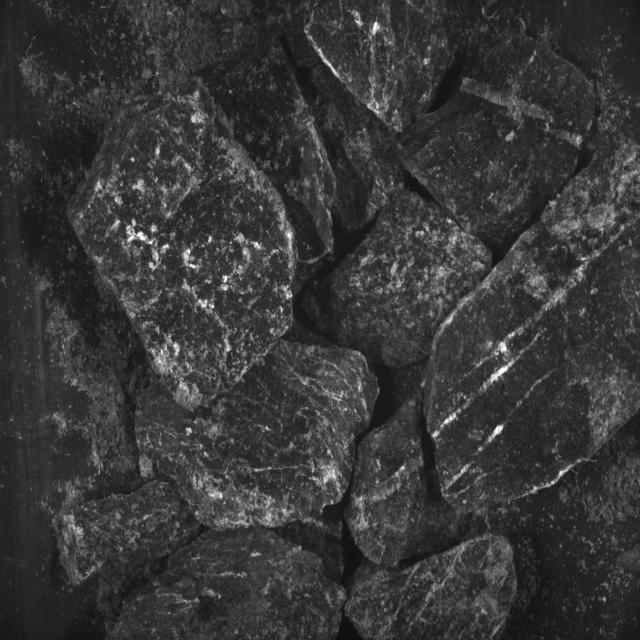Stones: (426, 145, 640, 512), (69, 83, 296, 411), (136, 341, 379, 531), (400, 36, 596, 254), (204, 42, 337, 292), (329, 189, 492, 368), (111, 528, 346, 640), (56, 480, 201, 629), (346, 397, 464, 567), (346, 400, 464, 567), (306, 1, 452, 132), (346, 534, 517, 640), (300, 64, 405, 234), (192, 80, 195, 86)
